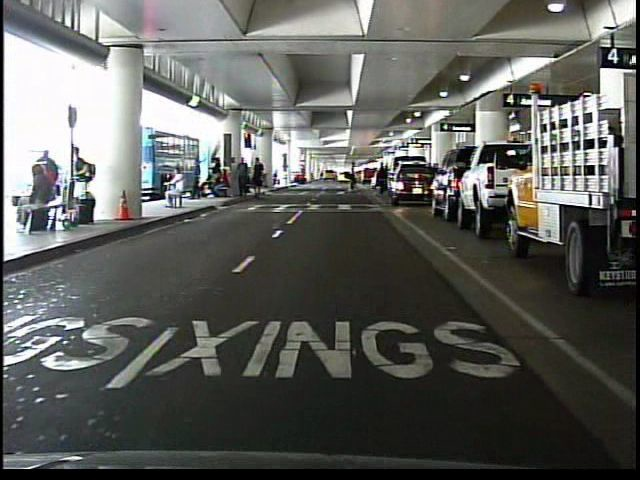person: (160, 168, 189, 213), (342, 160, 363, 194), (371, 158, 388, 199), (190, 156, 205, 202)
